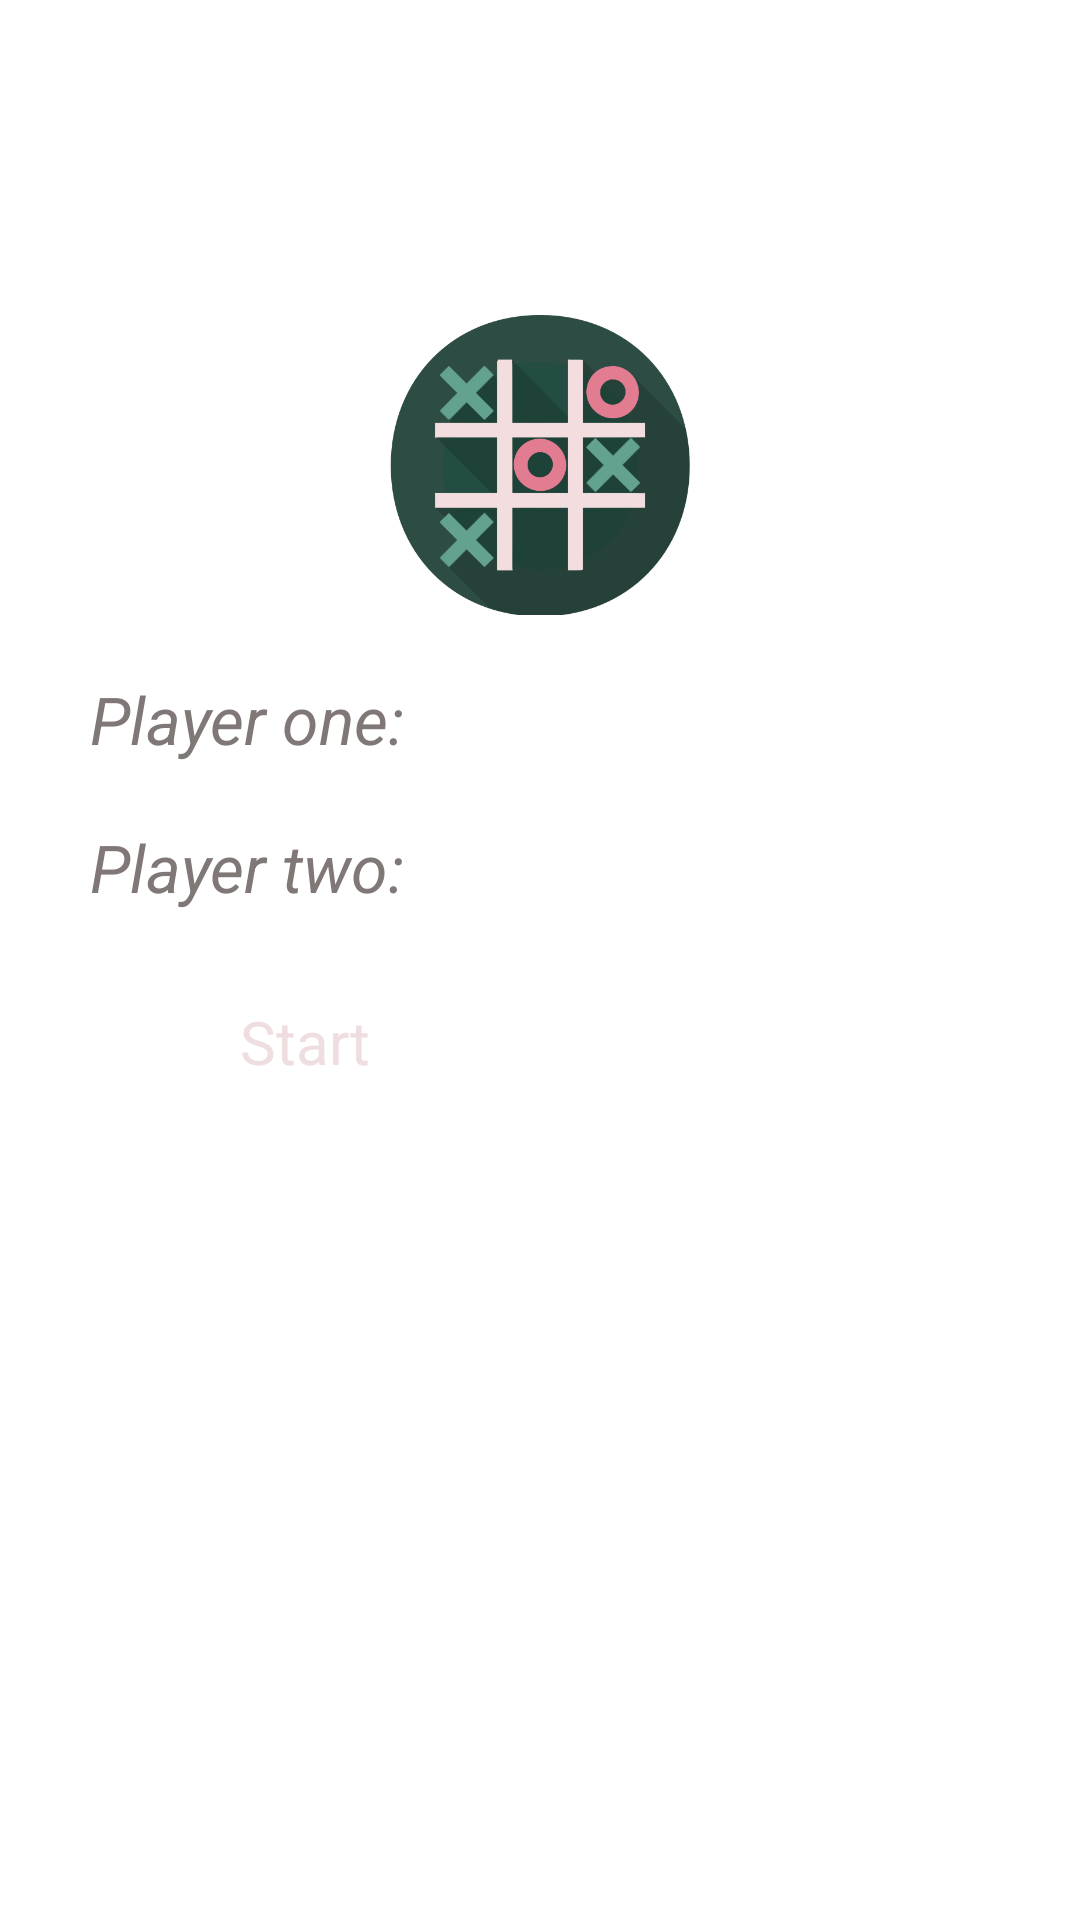

Icon click points for this 1080x1920 phone screenshot, format point (x, y):
tic: point (540, 465)
